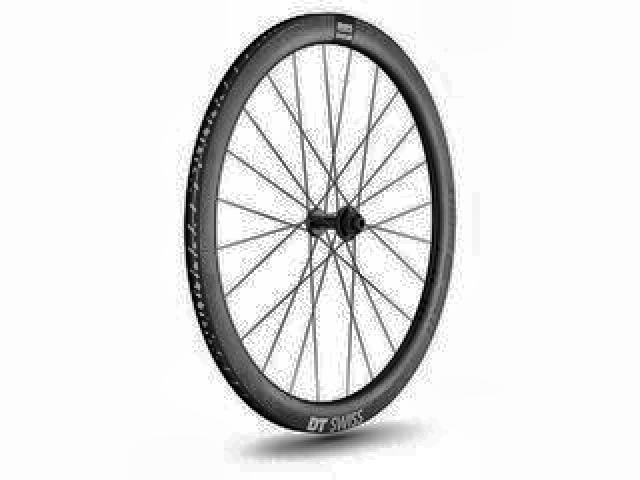wheel: (177, 10, 460, 445)
